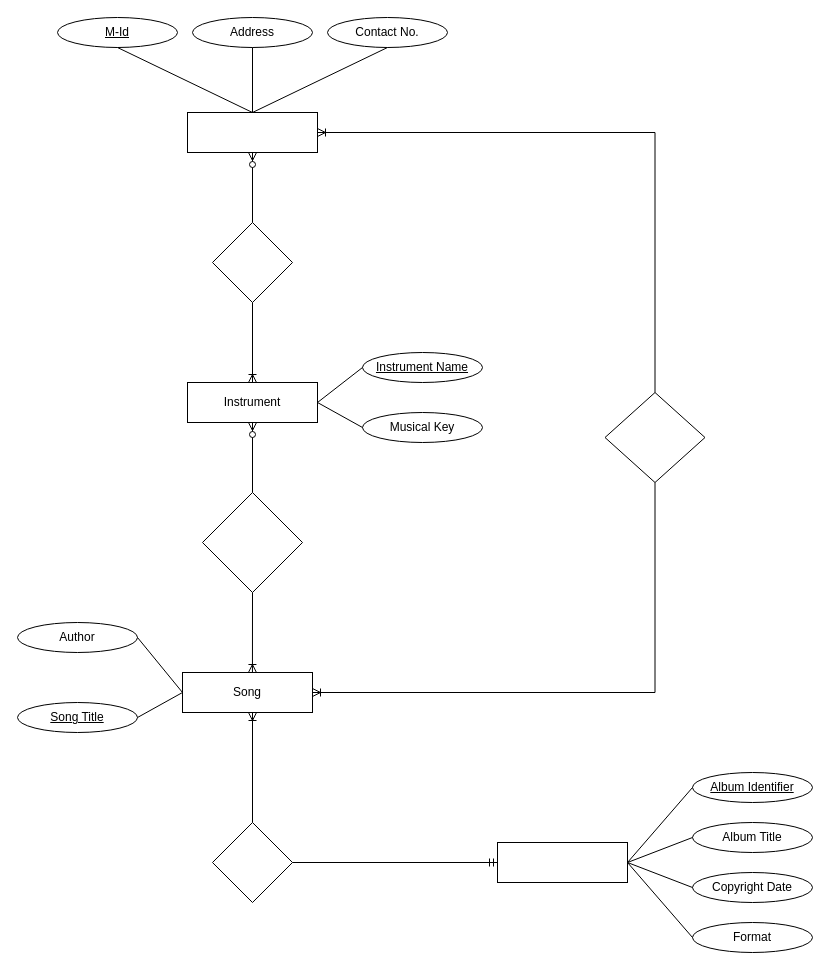
Some shapes in this 830 by 970 pixel diagram are drawn without their labels. The centre of each missing label's shape, as x and y in pixels:
Album: (562,862)
has: (252,862)
Musician: (252,132)
Performed by: (654,437)
Plays: (252,262)
Used in: (252,542)
